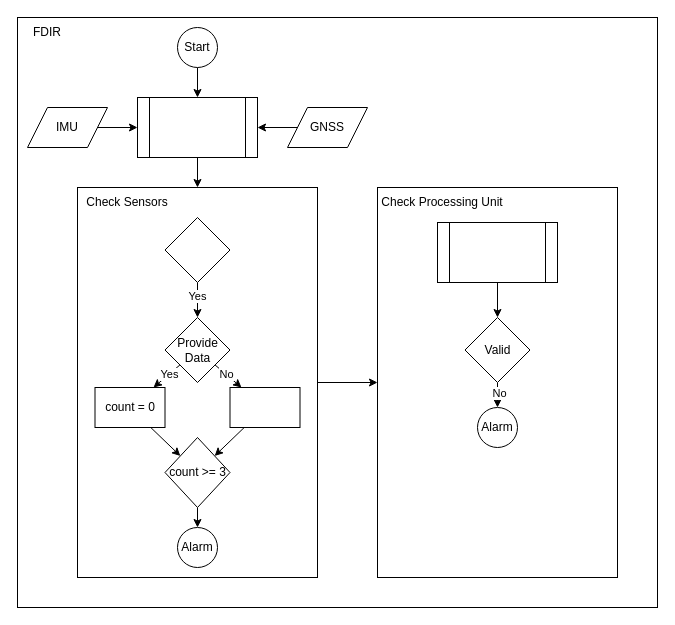
The diagram is 675 pixels wide and 625 high, and some of its shapes have lost their labels. Here are the shapes that lost their labels. From the top down, the centre of each, then its label:
the point at 197,127: Add Sensors
the point at 197,249: Running
the point at 497,252: Check Last Output
the point at 264,407: count += 1
